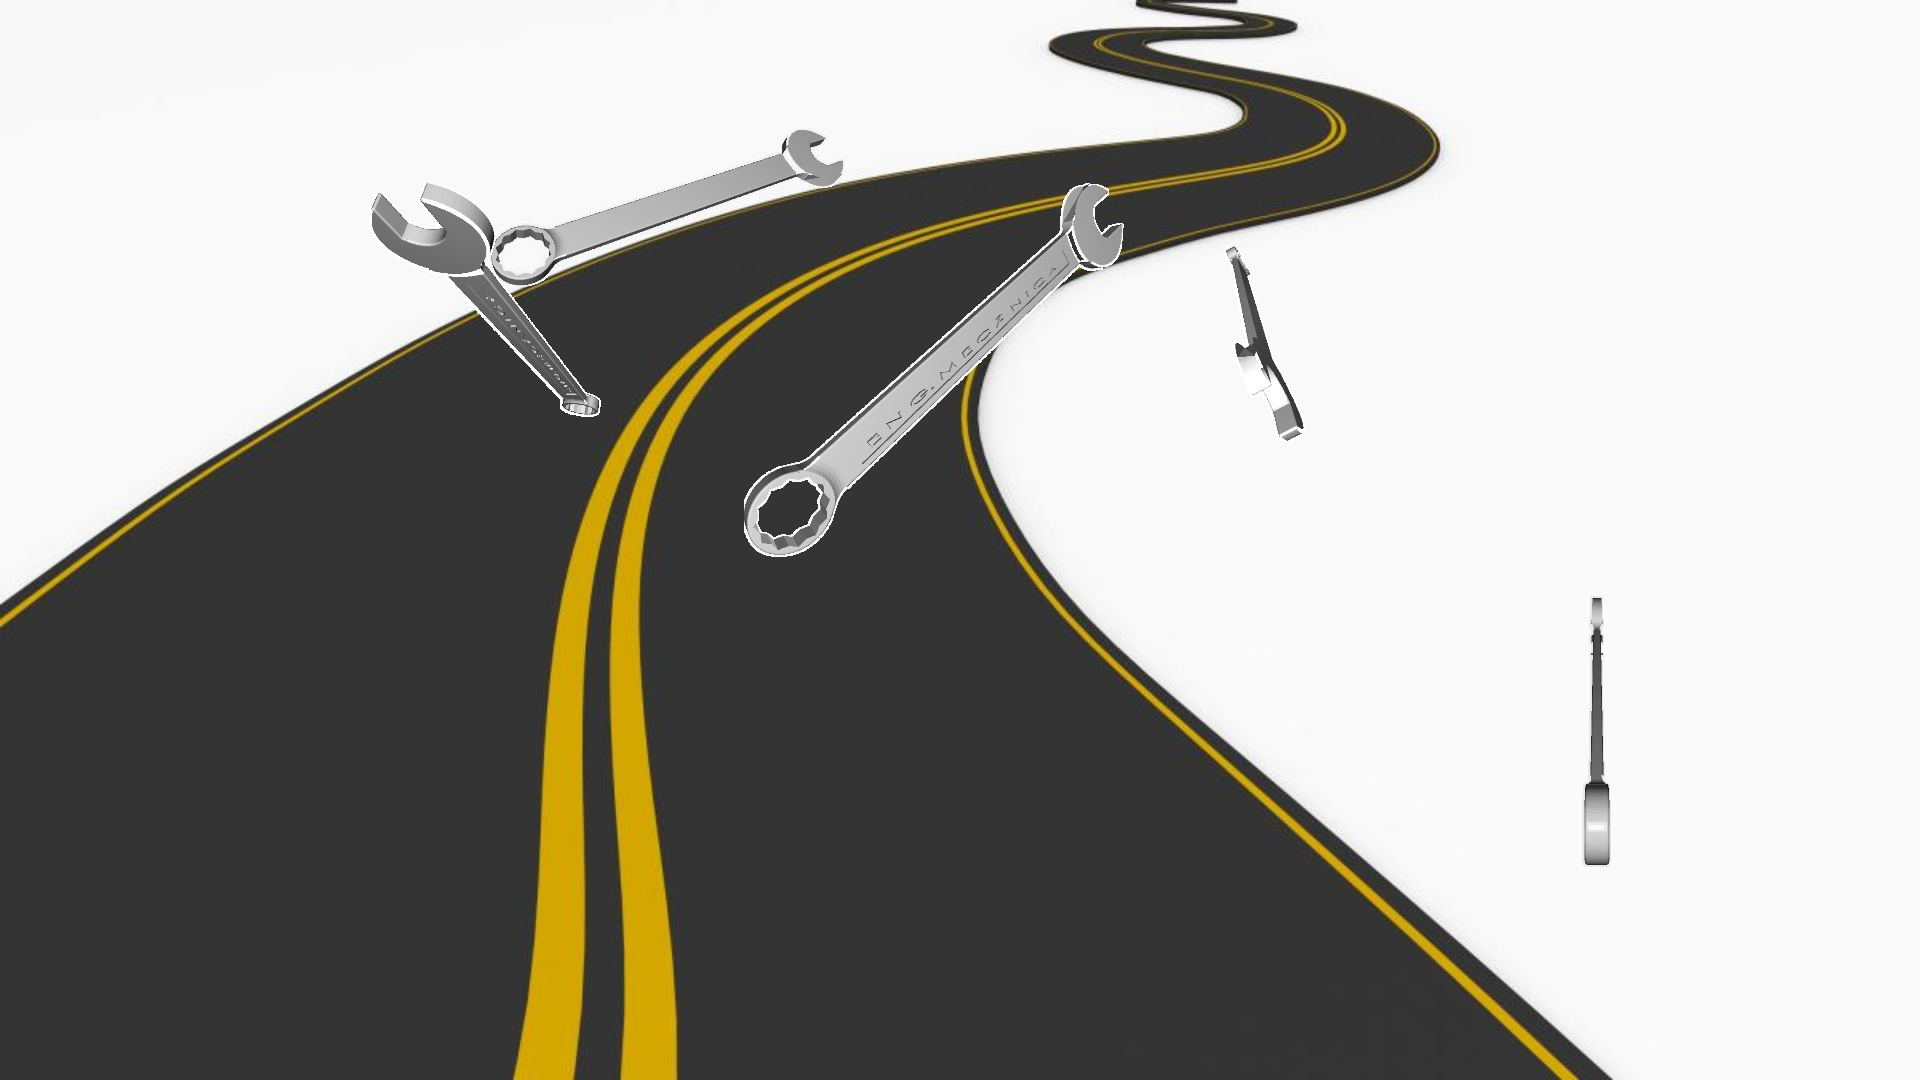Mixed Key: (744, 183, 1124, 556), (491, 128, 844, 286), (368, 181, 600, 415), (1224, 245, 1304, 442), (1582, 596, 1610, 866)
